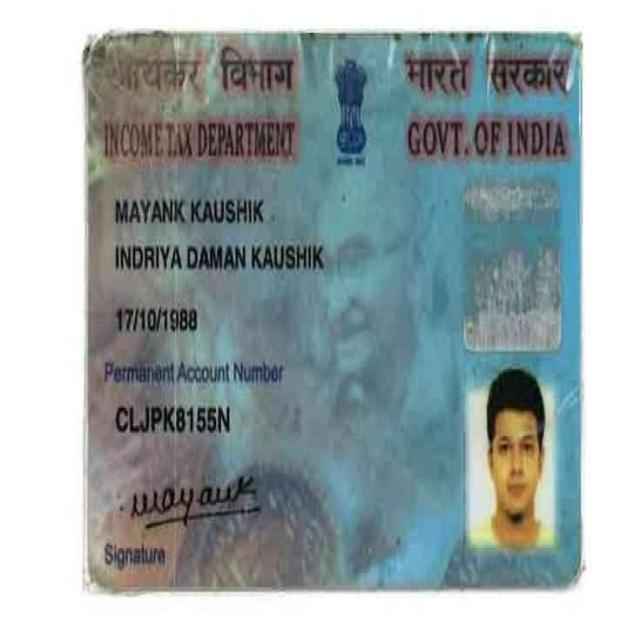pan_card: (88, 27, 582, 584)
